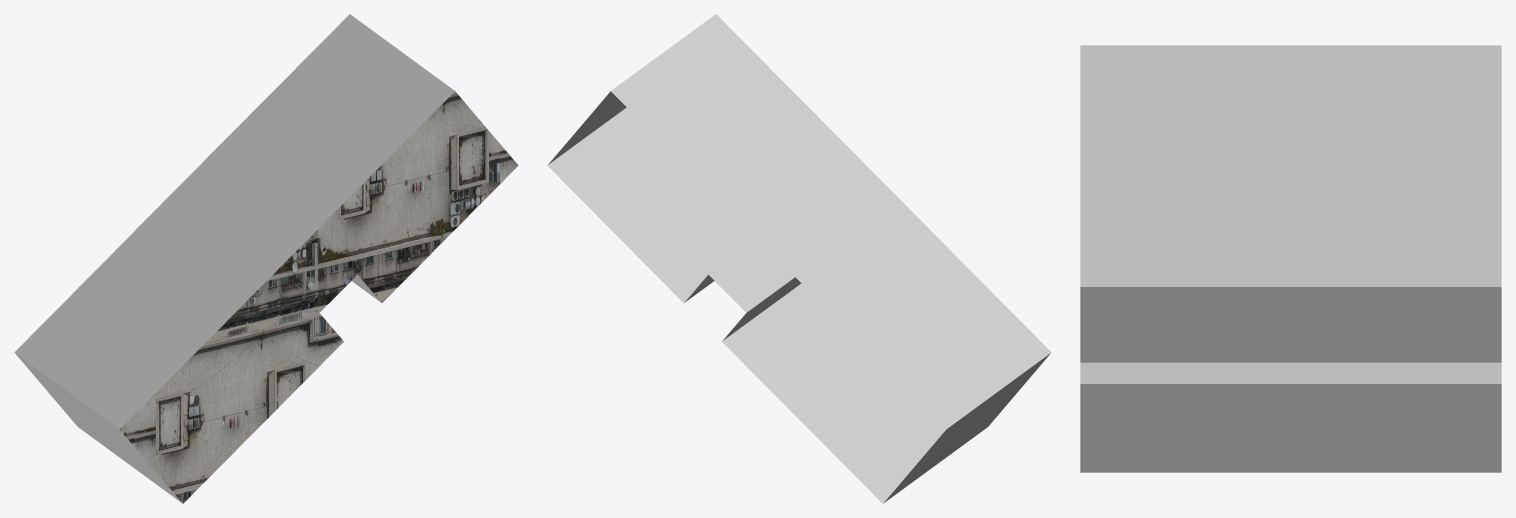
File: geospecific_1280.obj
The picture shows the model from 3 angles, left to right: view 1: azimuth 30°, elevation 25°; view 2: azimuth 150°, elevation 25°; view 3: azimuth 270°, elevation 25°; orthographic projection. The views are drawn at different scales.
Parts seen in each view (by area): view 1: Building; view 2: Building; view 3: Building.
Boxes of the visible parts, x1,y1,x2,y2 form: Building: (14,14,518,503); Building: (547,14,1051,503); Building: (1080,45,1501,472).
Bounding box in the file's own units: 19.69 × 16.34 × 9.
